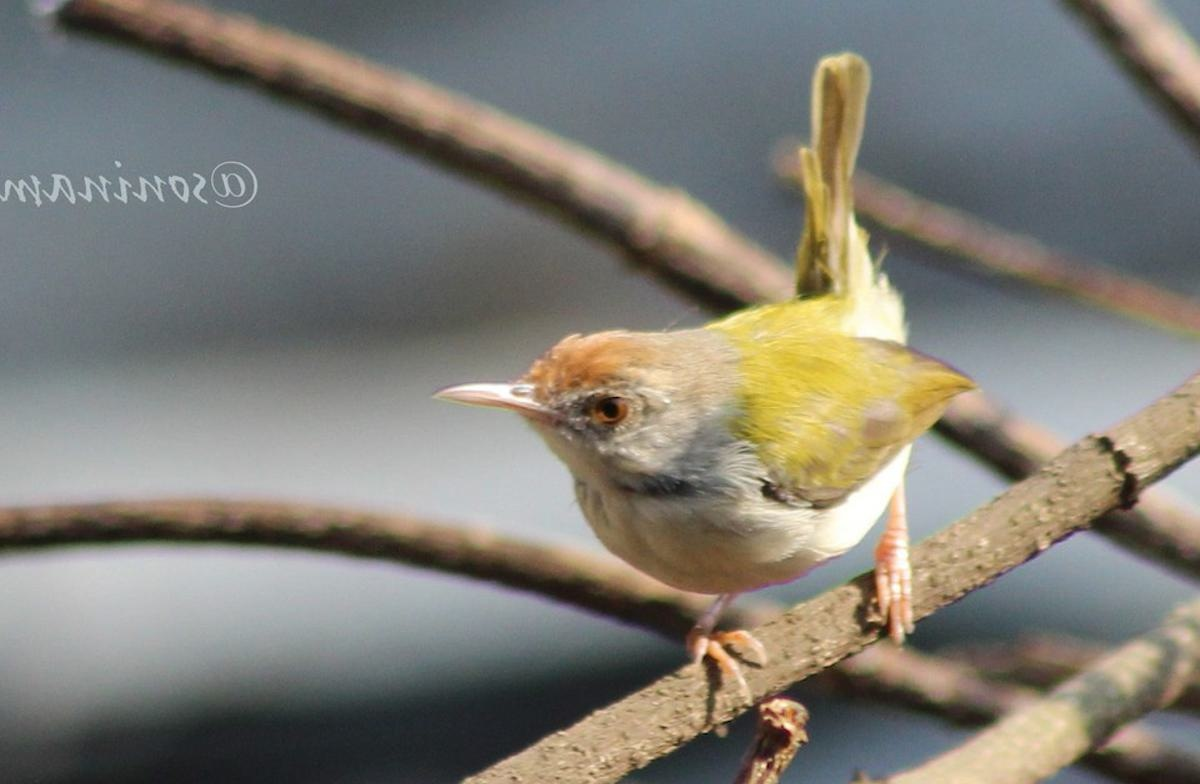tailorbird: (449, 52, 943, 666)
